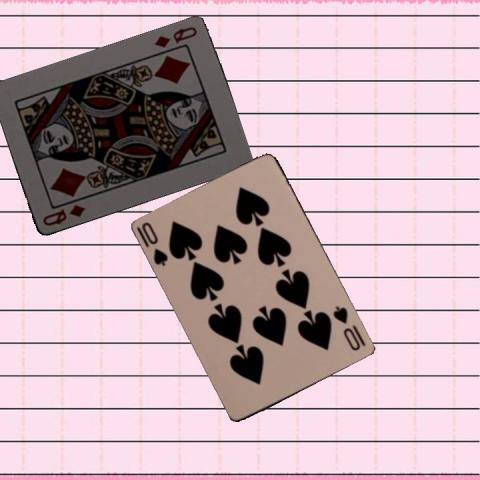10s: (134, 219, 170, 268), (330, 303, 363, 353)
Qd: (39, 202, 87, 228), (150, 24, 198, 49)
